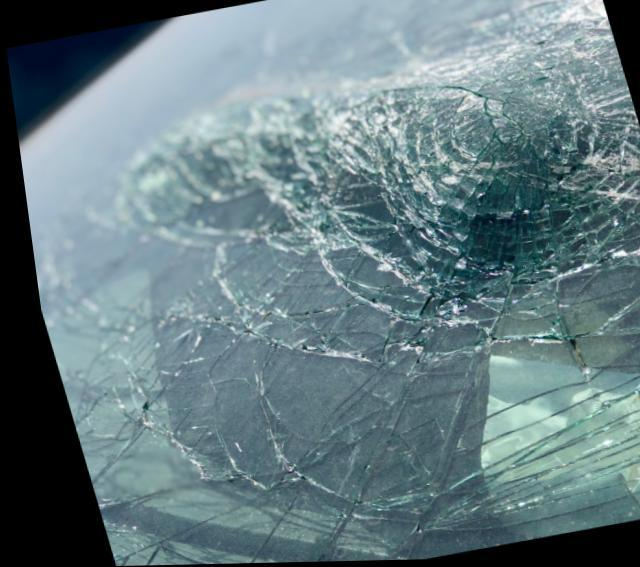glass shatter: (15, 0, 640, 566)
